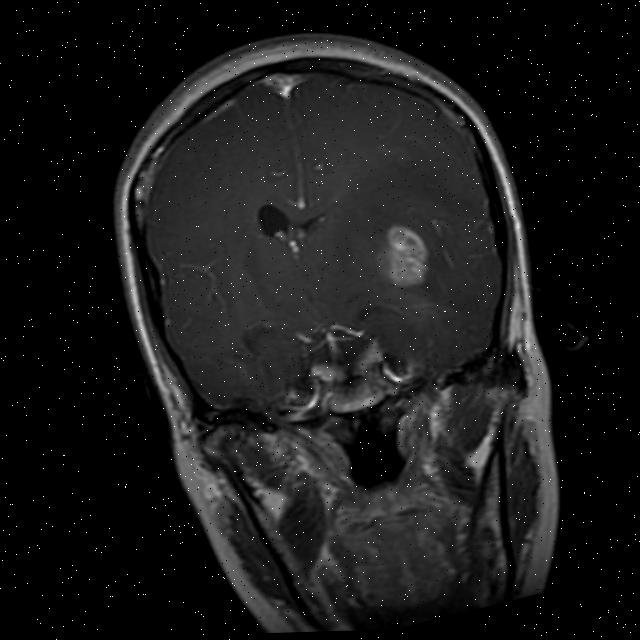Glioma: (372, 217, 438, 292)
Pituitary: (320, 372, 390, 418)
